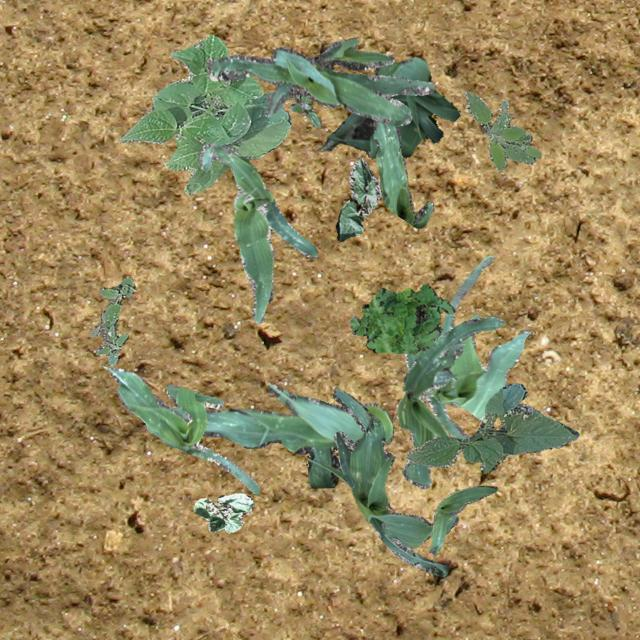crop: (118, 34, 290, 194), (332, 388, 458, 576), (404, 254, 530, 438), (170, 384, 392, 486), (198, 142, 316, 322), (205, 36, 434, 126), (108, 366, 258, 494), (396, 314, 504, 488), (404, 382, 578, 472), (316, 56, 458, 158), (372, 119, 432, 228), (428, 486, 496, 554), (334, 157, 380, 240), (194, 492, 252, 532)
weed: (348, 282, 454, 354), (464, 90, 540, 170), (89, 276, 134, 364), (288, 94, 320, 126)
